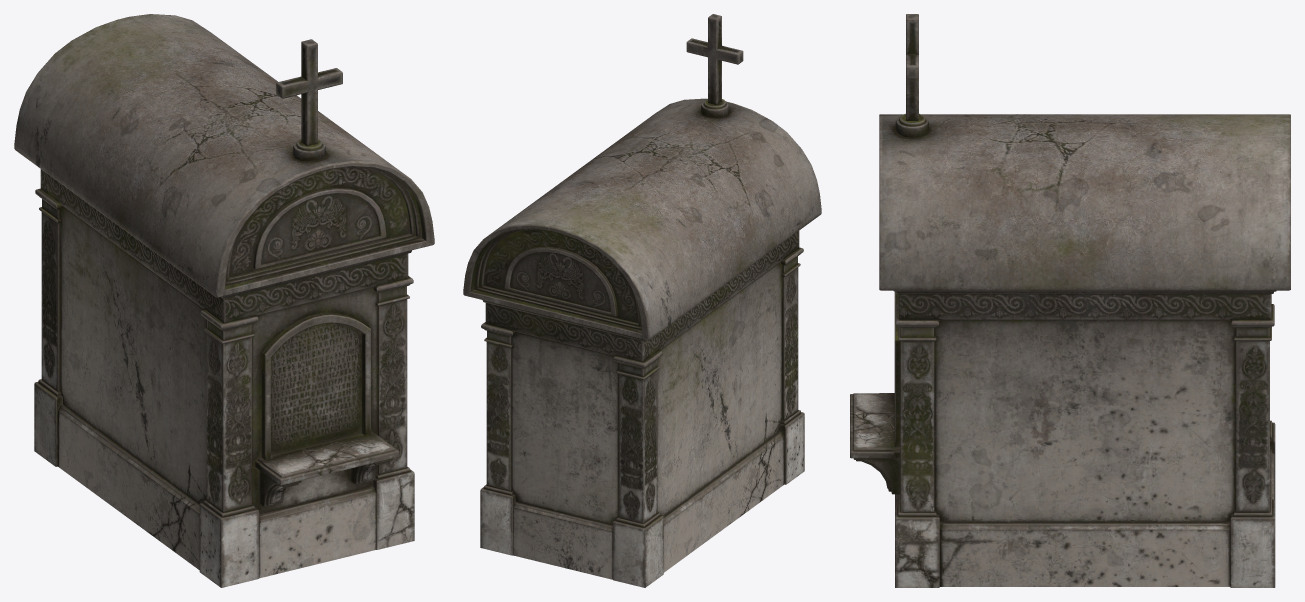
File: SM_crypt_09.fbx
The picture shows the model from 3 angles, left to right: view 1: azimuth 30°, elevation 25°; view 2: azimuth 150°, elevation 25°; view 3: azimuth 270°, elevation 25°; orthographic projection. The views are drawn at different scales.
Parts seen in each view (by area): view 1: SM_crypt_09; view 2: SM_crypt_09; view 3: SM_crypt_09.
Part boxes in pixels (x1,y1,x2,y2): SM_crypt_09: [14, 14, 434, 587]; SM_crypt_09: [463, 14, 821, 587]; SM_crypt_09: [850, 14, 1290, 587].
Size of the model in its own units: 171 by 387 by 295.
